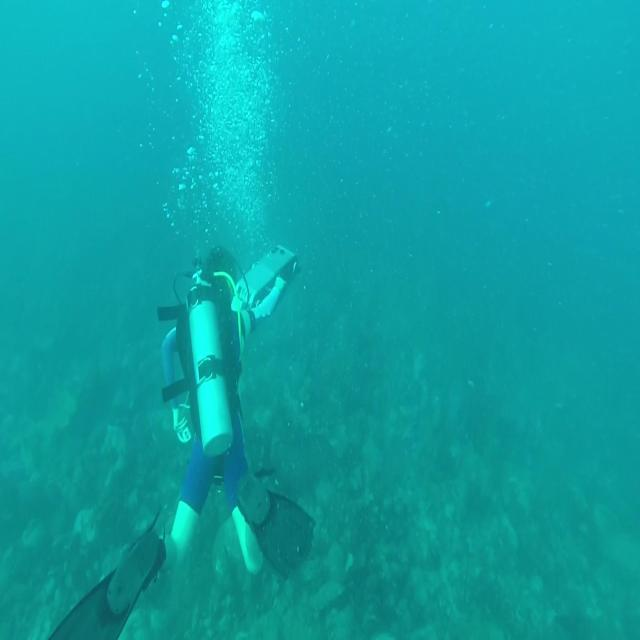human: (155, 240, 311, 582)
